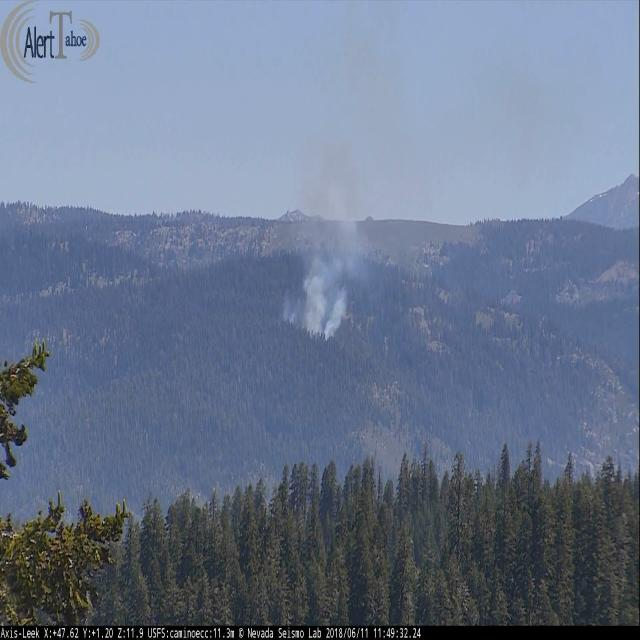smoke: (282, 218, 359, 341)
